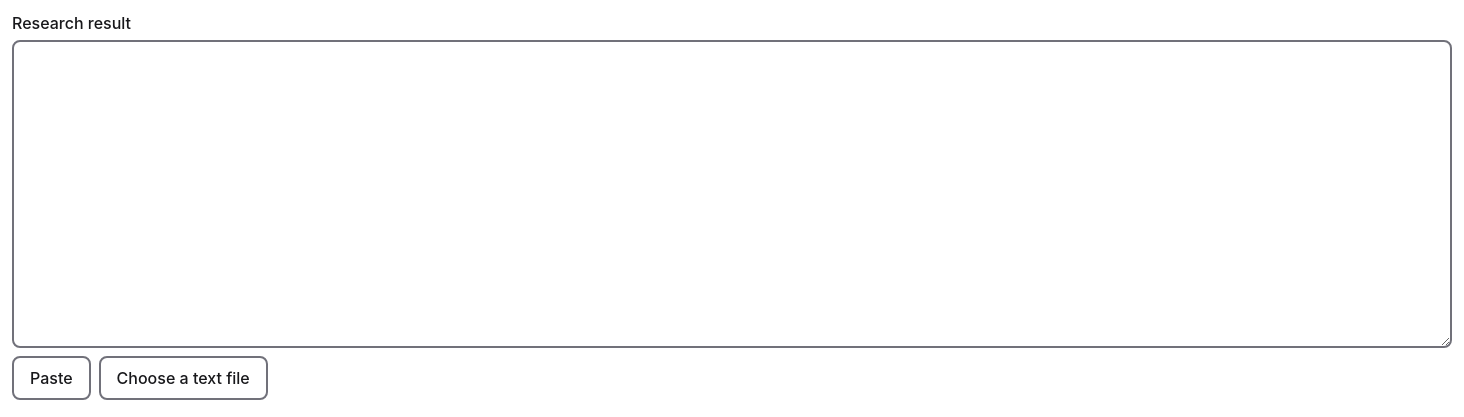
Test: PasteArea › [IHM-28] keeps a pasted text as it was copied
Click the text box labelled "Research result": [732, 194] box [12, 40, 1452, 348]
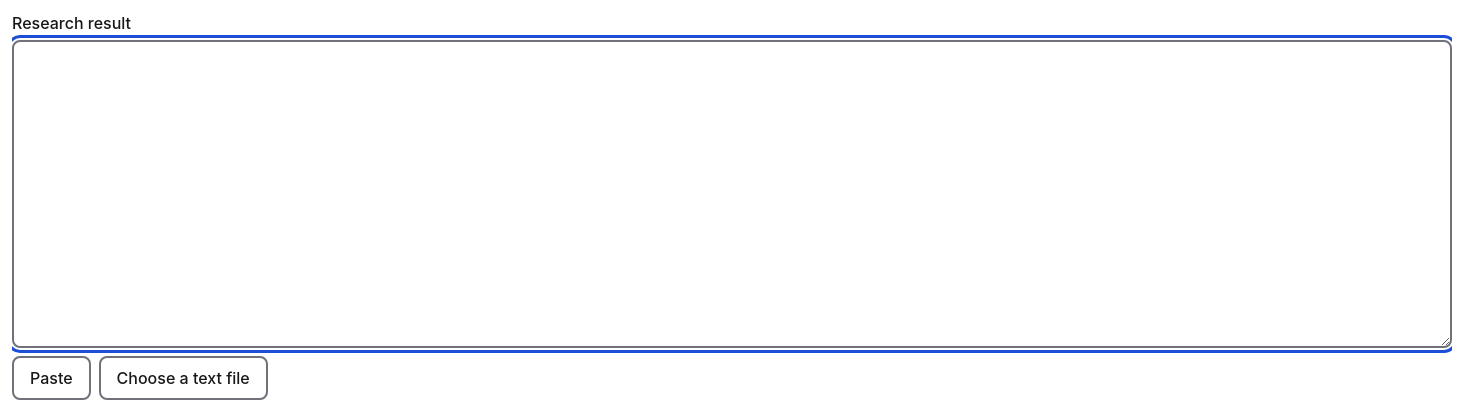
Type keys "{\"format\": \"1.0\", \"events\": [{\"quote\": \"It's over\"}]}"
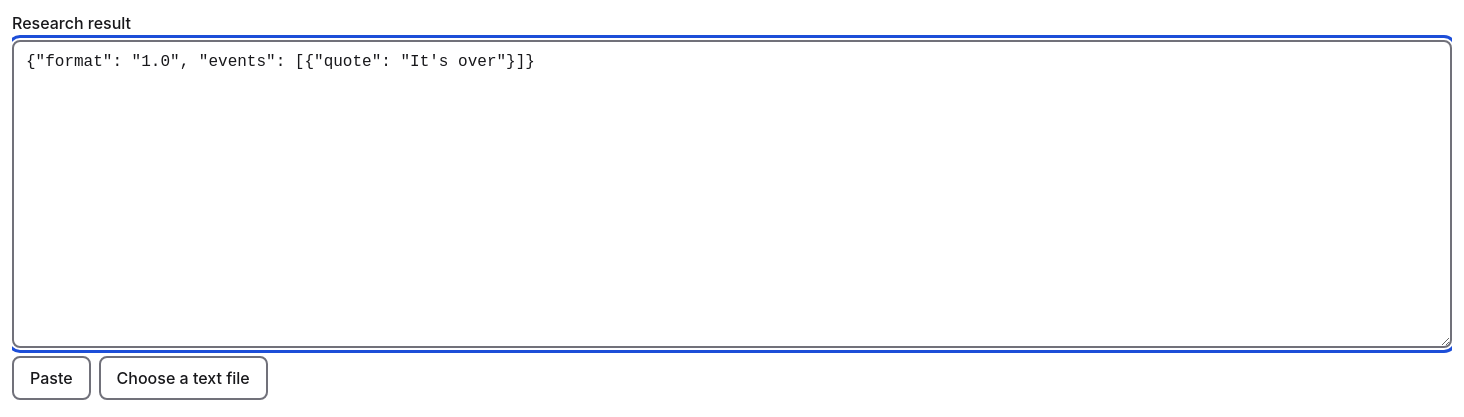
Check: the text box labelled "Research result" holds "{\"format\": \"1.0\", \"events\": [{\"quote\": \"It's over\"}]}"
